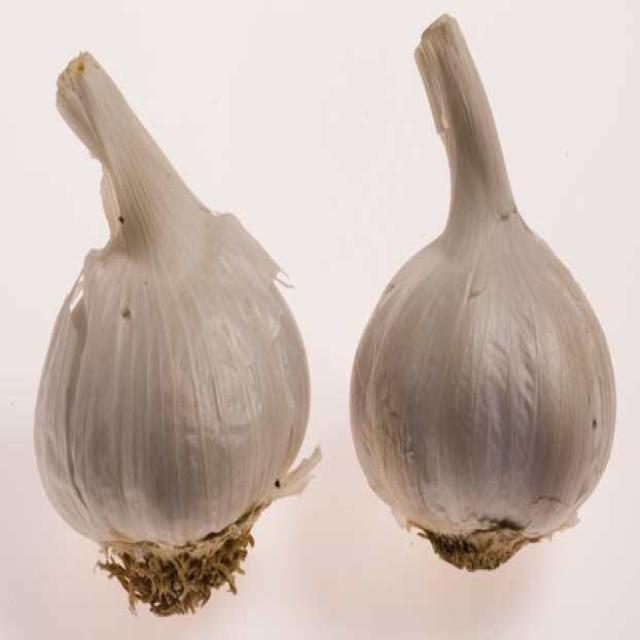garlic: (326, 177, 624, 564), (29, 190, 315, 573)
